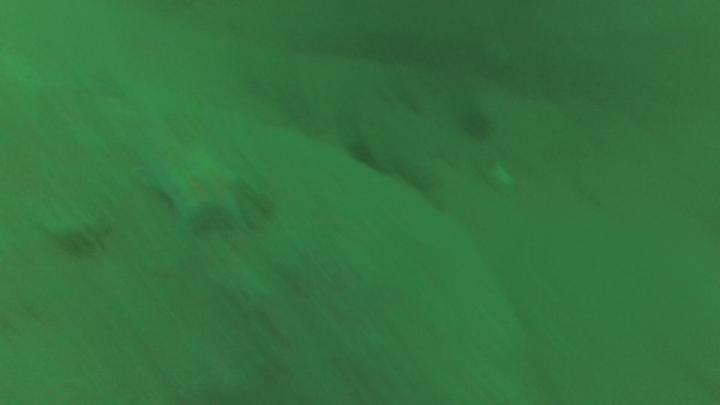holothurian: (43, 215, 117, 255)
starfish: (145, 149, 255, 239)
